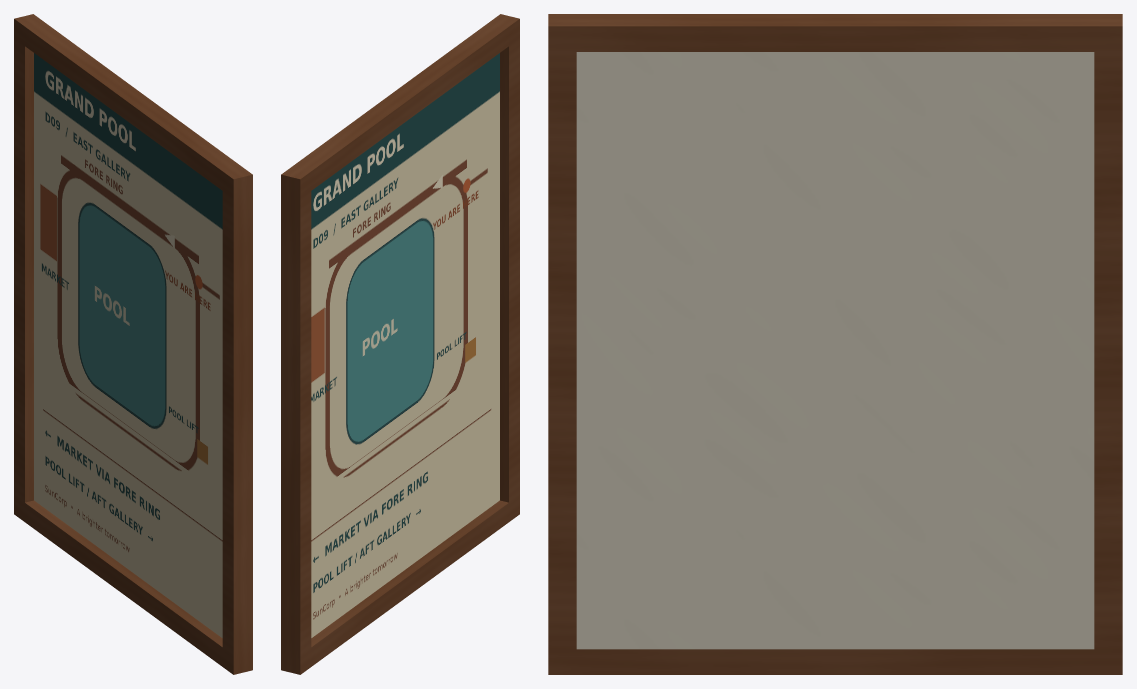
Rendered from AST-RES-001_pool_gallery_directory.glb.
3 views of the same model, side by side, from view 1: azimuth 30°, elevation 25°; view 2: azimuth 150°, elevation 25°; view 3: azimuth 270°, elevation 25° (orthographic). The views are drawn at different scales.
Visible parts, largest first — view 1: CG_Directory_OriginalRouteImage, CG_Directory_ContinuousFrame; view 2: CG_Directory_OriginalRouteImage, CG_Directory_ContinuousFrame; view 3: CG_Directory_Back, CG_Directory_ContinuousFrame.
Boxes of the visible parts, x1=… form: CG_Directory_OriginalRouteImage: x1=34, y1=53, x2=222, y2=637; CG_Directory_ContinuousFrame: x1=14, y1=14, x2=252, y2=674; CG_Directory_OriginalRouteImage: x1=311, y1=53, x2=499, y2=637; CG_Directory_ContinuousFrame: x1=281, y1=14, x2=519, y2=674; CG_Directory_Back: x1=576, y1=52, x2=1094, y2=649; CG_Directory_ContinuousFrame: x1=548, y1=14, x2=1122, y2=674.
Bounding box in the file's own units: 0.062 × 1.52 × 1.22.
Materials: 3 (3 with a texture image).
